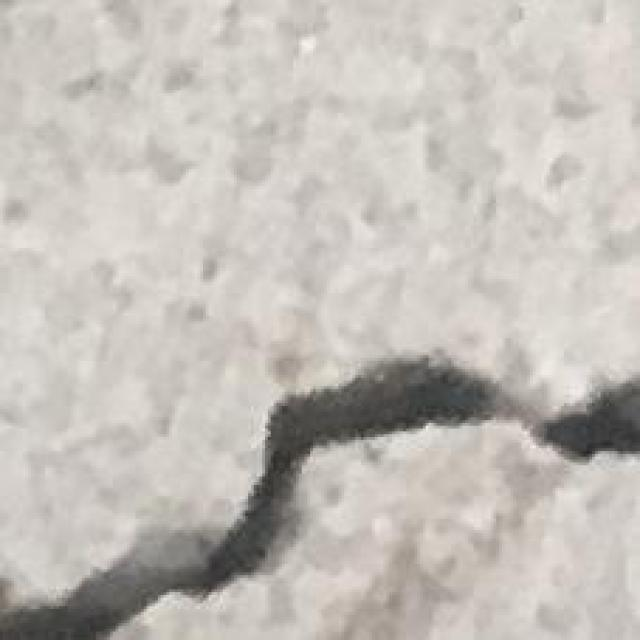diagonal crack: (0, 352, 612, 640)
